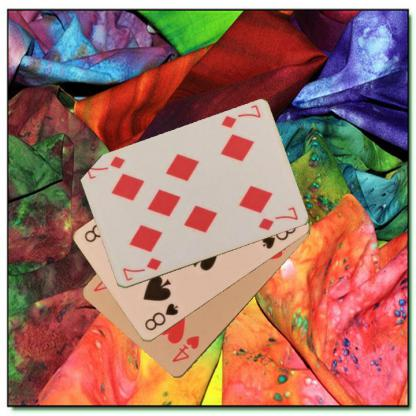4h: (169, 333, 201, 364)
7d: (218, 103, 262, 130), (120, 256, 162, 283)
8s: (142, 300, 180, 332)
